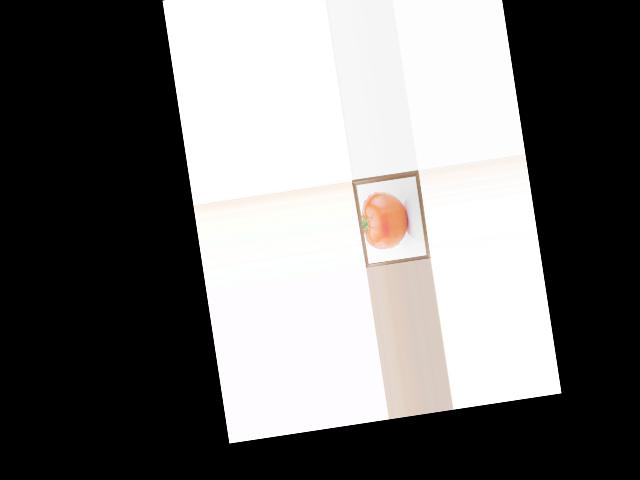tomato: (357, 188, 411, 251)
